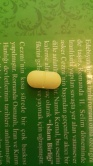Aferin: (26, 70, 62, 90)
